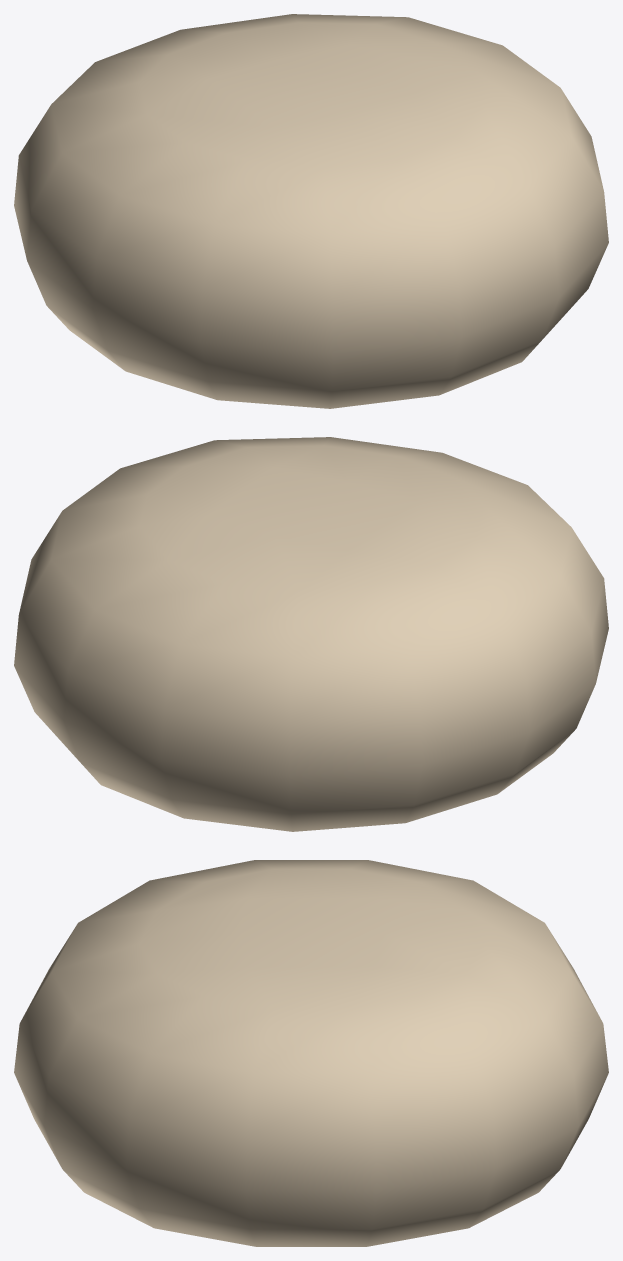
The model's file is Dough_geo.fbx.
3 renders of one model, top to bottom at view 1: azimuth 30°, elevation 25°; view 2: azimuth 150°, elevation 25°; view 3: azimuth 270°, elevation 25°, orthographic.
Parts seen in each view (by area): view 1: Dough_geo; view 2: Dough_geo; view 3: Dough_geo.
Boxes of the visible parts, box(x1,y1,x2,y2) form: Dough_geo: box(14, 14, 608, 408); Dough_geo: box(14, 437, 608, 831); Dough_geo: box(14, 860, 608, 1246).
Bounding box in the file's own units: 0.3698 × 0.3823 × 0.1516.
